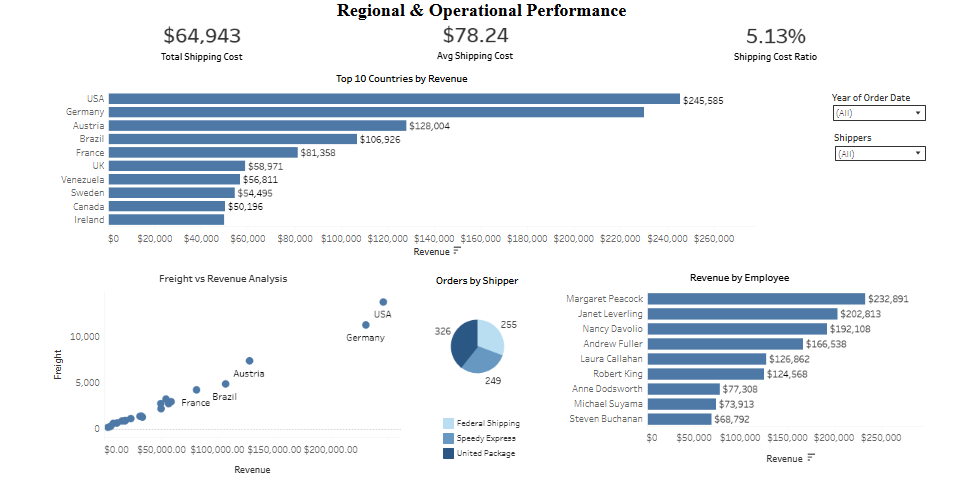

The page's visual inventory and layout, read from the dashboard file:
{"tool":"tableau","page":{"name":"Page 3","canvas":[1220,700],"ordinal":4},"visuals":[{"type":"text","box":[40.7,7,1154.7,41]},{"type":"worksheet","title":"Sheet 5 (3)","mark":"Text","box":[41.9,47,406.7,52]},{"type":"worksheet","title":"Sheet 5 (2)","mark":"Text","box":[414.1,47,391.9,50]},{"type":"worksheet","title":"Sheet 5 (4)","mark":"Text","box":[808.4,47,404.2,51]},{"type":"worksheet","title":"Sheet 15","mark":"Automatic","rows":["country"],"cols":["Calculation_1402216471646209"],"box":[40,102,1033,269]},{"type":"filter","title":"Sheet 16","param":"[federated.0t04x5t1wbccgz1bu4hci1i13do6].[yr:orderDate:ok]","box":[1085,135,126,51]},{"type":"filter","title":"Sheet 17 (2)","param":"[federated.0t04x5t1wbccgz1bu4hci1i13do6].[none:companyName (shippers):nk]","box":[1088,189,123,54]},{"type":"worksheet","title":"Sheet 17","mark":"Automatic","rows":["employeeName"],"cols":["Calculation_1402216471646209"],"box":[718.4,368,488,278]},{"type":"worksheet","title":"Sheet 16","mark":"Circle","rows":["freight"],"cols":["Calculation_1402216471646209"],"box":[37,369,473.2,284]},{"type":"worksheet","title":"Sheet 17 (2)","mark":"Pie","box":[530,371,167,203]},{"type":"legend","title":"Sheet 17 (2)","param":"[federated.0t04x5t1wbccgz1bu4hci1i13do6].[none:companyName (shippers):nk]","box":[563,568,133,77]}]}

Visuals, with their boxes on the page's 1220x700 design canvas (x1, y1, x2, y2). These are canvas units, not pixel positions in the 953x481 screenshot, which may show the page scaled, cropped or inside an application window:
text: x1=41 y1=7 x2=1195 y2=48
"Sheet 5 (3)" worksheet (Text marks): x1=42 y1=47 x2=449 y2=99
"Sheet 5 (2)" worksheet (Text marks): x1=414 y1=47 x2=806 y2=97
"Sheet 5 (4)" worksheet (Text marks): x1=808 y1=47 x2=1213 y2=98
"Sheet 15" worksheet: x1=40 y1=102 x2=1073 y2=371
"Sheet 16" filter: x1=1085 y1=135 x2=1211 y2=186
"Sheet 17 (2)" filter: x1=1088 y1=189 x2=1211 y2=243
"Sheet 17" worksheet: x1=718 y1=368 x2=1206 y2=646
"Sheet 16" worksheet (Circle marks): x1=37 y1=369 x2=510 y2=653
"Sheet 17 (2)" worksheet (Pie marks): x1=530 y1=371 x2=697 y2=574
"Sheet 17 (2)" legend: x1=563 y1=568 x2=696 y2=645
